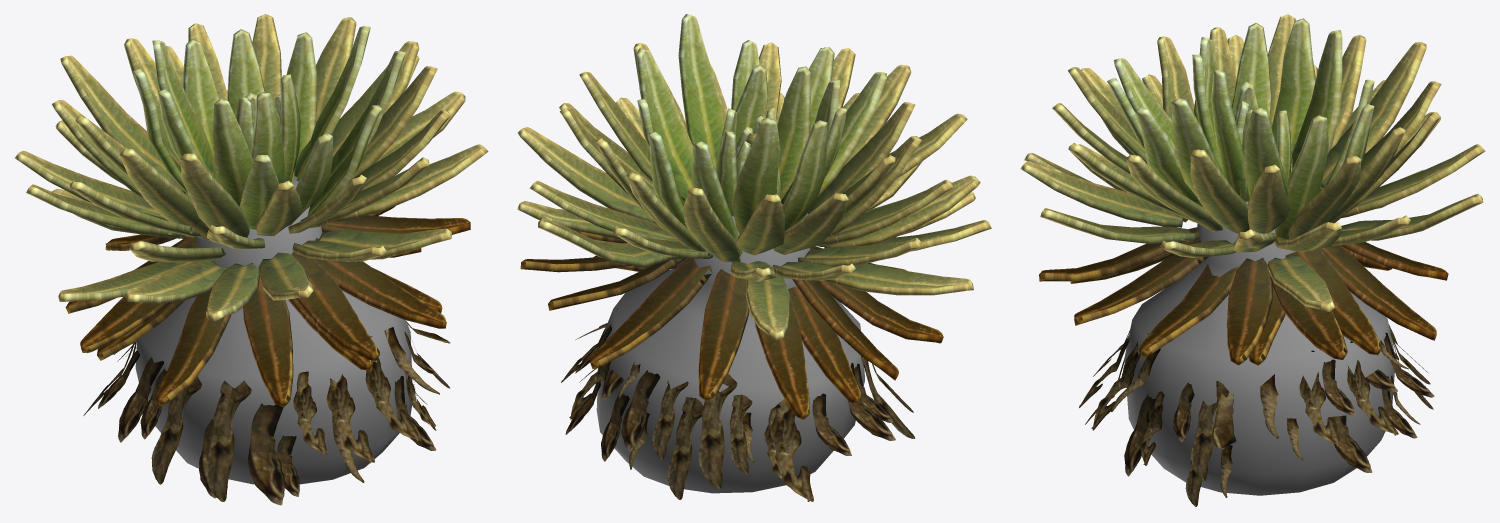
The model's file is frailejon_pequeno.fbx.
The picture shows the model from 3 angles, left to right: view 1: azimuth 30°, elevation 25°; view 2: azimuth 150°, elevation 25°; view 3: azimuth 270°, elevation 25°; orthographic projection. The views are drawn at different scales.
Visible parts, largest first — view 1: frailejon_pequeno _LOD0; view 2: frailejon_pequeno _LOD0; view 3: frailejon_pequeno _LOD0.
Part boxes in pixels (x1,y1,x2,y2): frailejon_pequeno _LOD0: (15,14,488,505); frailejon_pequeno _LOD0: (517,14,991,501); frailejon_pequeno _LOD0: (1020,14,1485,506).
Size of what is drawn, in the model's own units: 0.6974 by 0.6887 by 0.6381.
